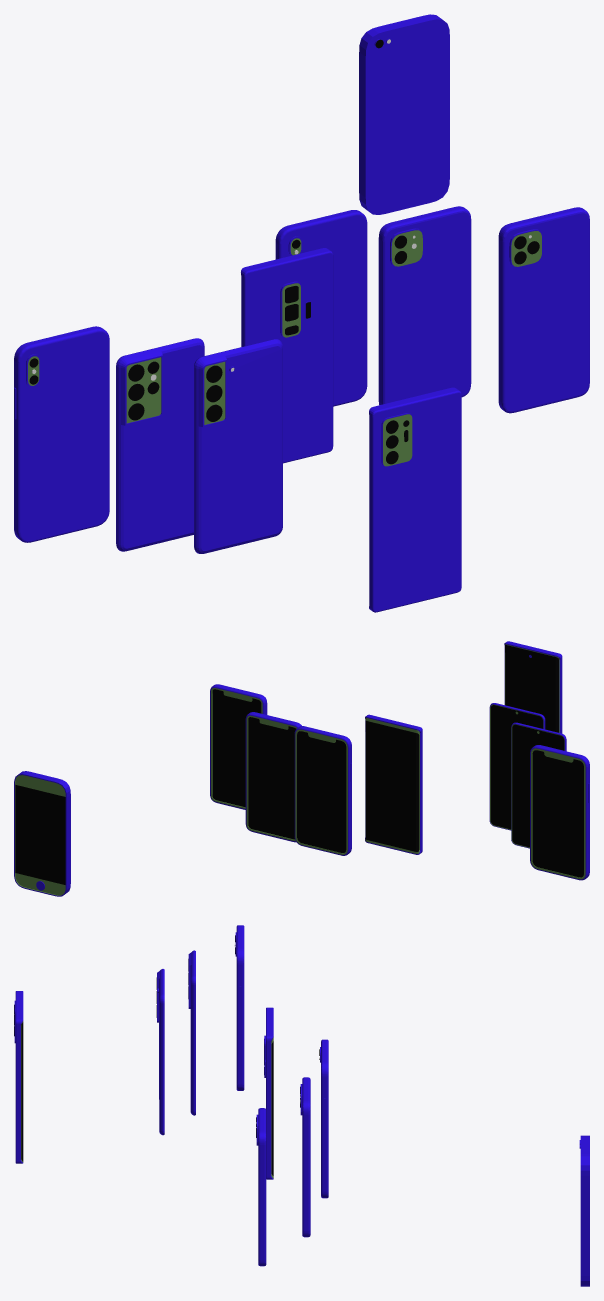
Rendered from phones.fbx.
3 views of the same model, one above another, from view 1: azimuth 30°, elevation 25°; view 2: azimuth 150°, elevation 25°; view 3: azimuth 270°, elevation 25° (orthographic). The views are drawn at different scales.
Visible parts, largest first — view 1: phone_samsung_not20, Phone_iphone_x, phone_samung_21.001, Phone_Phone_12, Phone_Phone_12.001, phone_iphone_5, phone_samung_21, phone_smsung_s9plus, Phone_iphone_x.001; view 2: Phone_iphone_x, phone_smsung_s9plus, Phone_iphone_x.001, phone_iphone_5, Phone_Phone_12.001, Phone_Phone_12, phone_samsung_not20, phone_samung_21.001, phone_samung_21; view 3: phone_samsung_not20, phone_iphone_5, Phone_iphone_x, Phone_Phone_12.001, Phone_Phone_12, phone_smsung_s9plus, Phone_iphone_x.001, phone_samung_21.001, phone_samung_21.
Part boxes in pixels (<box>): phone_samsung_not20: <box>369,387,461,612</box>; Phone_iphone_x: <box>14,326,109,542</box>; phone_samung_21.001: <box>194,339,282,553</box>; Phone_Phone_12: <box>498,207,589,413</box>; Phone_Phone_12.001: <box>378,206,471,405</box>; phone_iphone_5: <box>359,14,449,214</box>; phone_samung_21: <box>116,338,204,551</box>; phone_smsung_s9plus: <box>241,248,333,463</box>; Phone_iphone_x.001: <box>275,210,367,406</box>; Phone_iphone_x: <box>530,745,589,880</box>; phone_smsung_s9plus: <box>365,714,422,854</box>; Phone_iphone_x.001: <box>294,726,351,855</box>; phone_iphone_5: <box>14,771,70,896</box>; Phone_Phone_12.001: <box>245,712,301,842</box>; Phone_Phone_12: <box>210,684,267,809</box>; phone_samsung_not20: <box>504,641,562,733</box>; phone_samung_21.001: <box>489,703,545,830</box>; phone_samung_21: <box>511,722,566,848</box>; phone_samsung_not20: <box>14,991,23,1163</box>; phone_iphone_5: <box>579,1135,589,1286</box>; Phone_iphone_x: <box>234,925,244,1090</box>; Phone_Phone_12.001: <box>300,1077,310,1237</box>; Phone_Phone_12: <box>256,1108,266,1266</box>; phone_smsung_s9plus: <box>264,1007,273,1179</box>; Phone_iphone_x.001: <box>319,1039,328,1198</box>; phone_samung_21.001: <box>156,969,164,1135</box>; phone_samung_21: <box>188,950,195,1115</box>.
Size of the model in its own units: 908 by 263 by 943.
